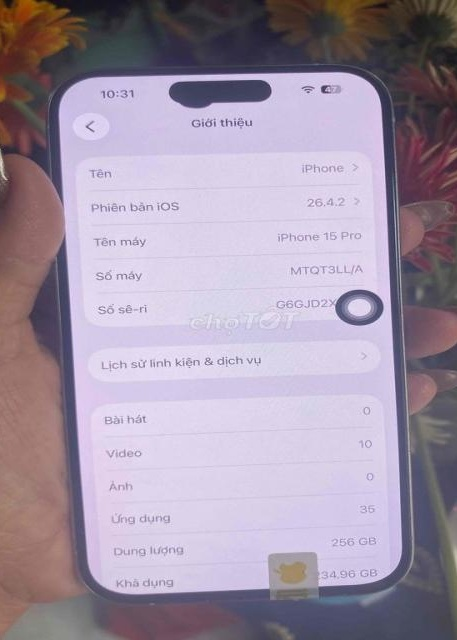screen_defect: (163, 78, 257, 116)
